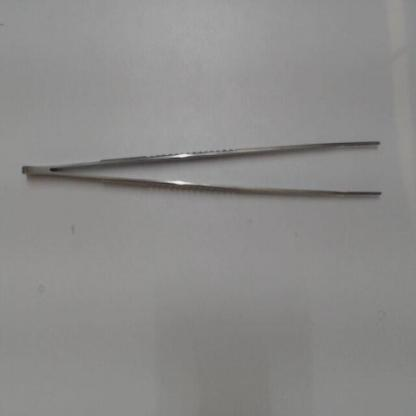DeBakey Dissector: (12, 112, 404, 230)
